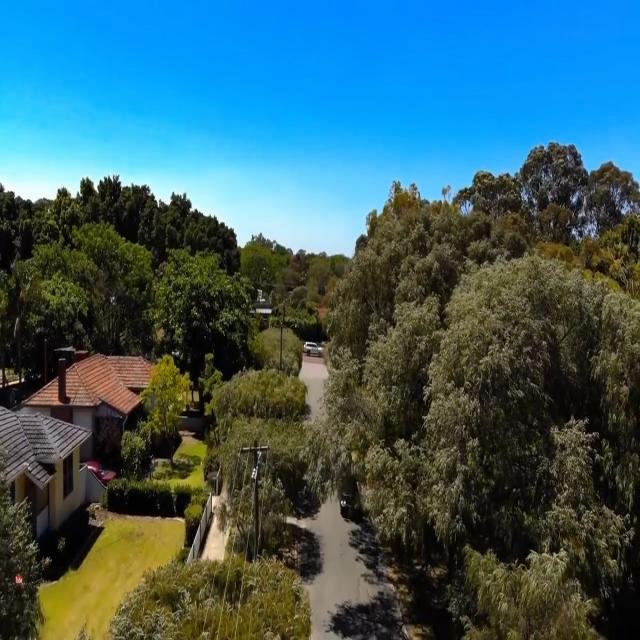Building: (0, 356, 156, 546)
Pole: (250, 441, 262, 558), (278, 322, 284, 370), (281, 304, 287, 330)
Tree: (323, 135, 636, 640), (0, 231, 146, 356), (111, 546, 303, 640), (152, 249, 246, 418), (212, 420, 328, 551), (212, 367, 312, 429), (145, 351, 187, 447), (252, 316, 302, 374)
